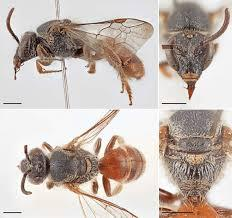Lasioglossum: (13, 108, 155, 218), (0, 6, 154, 102), (155, 0, 231, 105), (162, 109, 231, 218)
